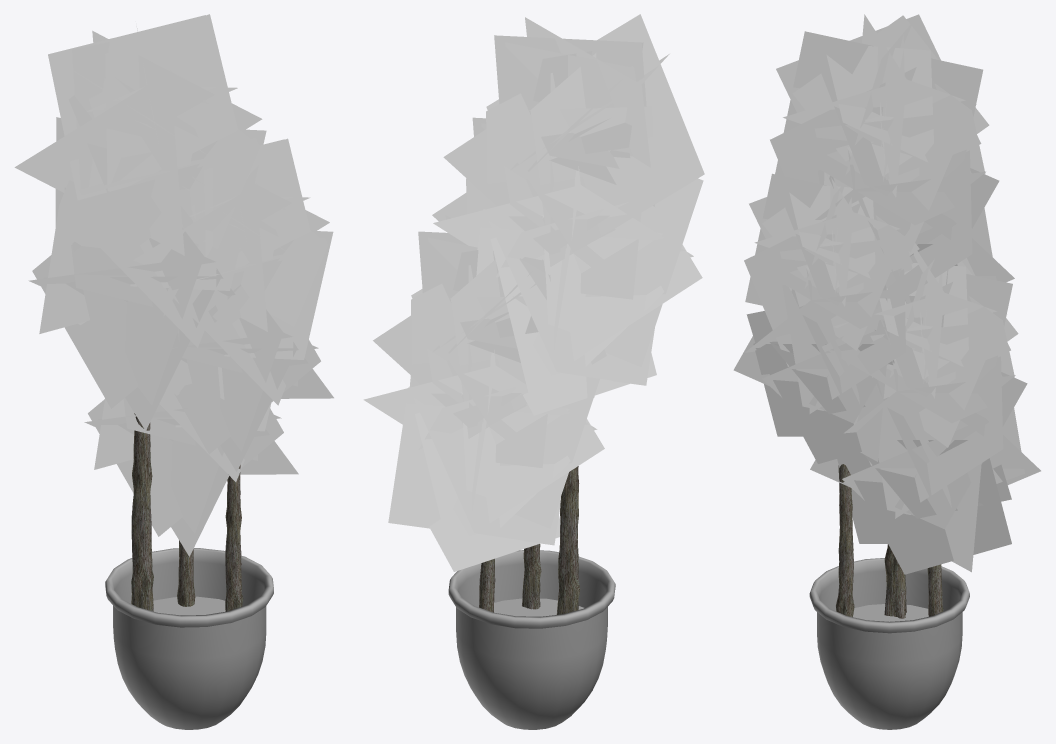
The model's file is Plant.fbx.
3 views of the same model, side by side, from view 1: azimuth 30°, elevation 25°; view 2: azimuth 150°, elevation 25°; view 3: azimuth 270°, elevation 25° (orthographic). The views are drawn at different scales.
Parts seen in each view (by area): view 1: polySurface106; view 2: polySurface106; view 3: polySurface106.
Part boxes in pixels (x1,y1,x2,y2): polySurface106: [14, 14, 333, 729]; polySurface106: [363, 14, 704, 729]; polySurface106: [733, 14, 1040, 729].
Bounding box in the file's own units: 5.63 × 12.46 × 5.24.
